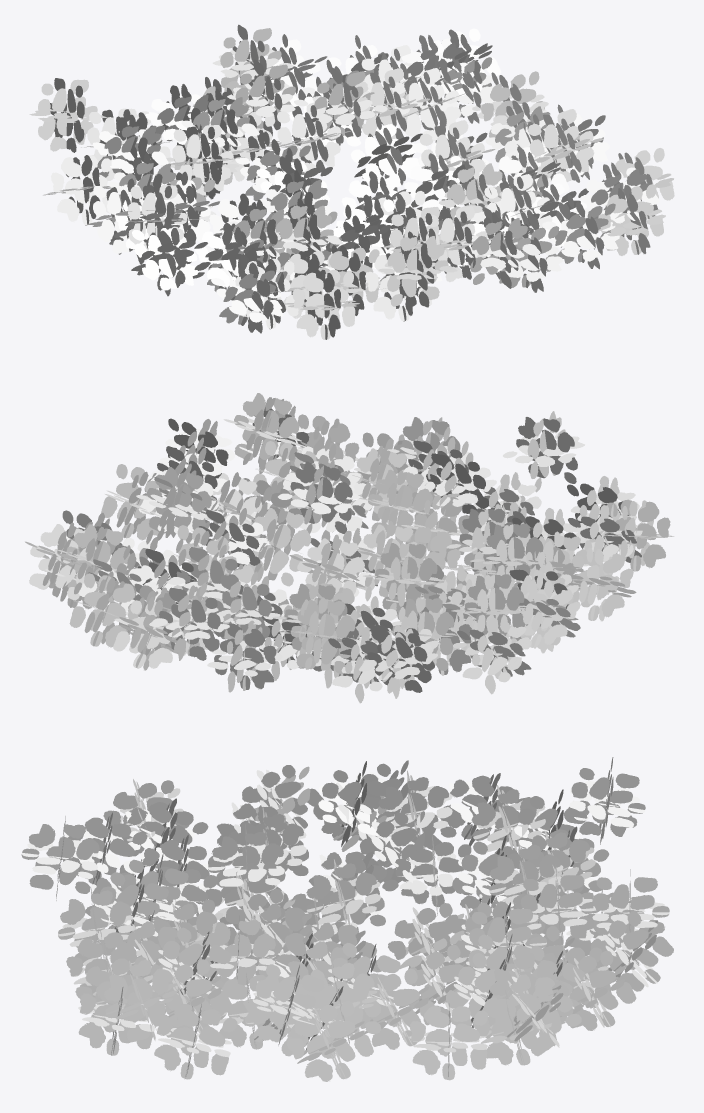
File: FoliageCloud_Test.fbx
3 views of the same model, one above another, from view 1: azimuth 30°, elevation 25°; view 2: azimuth 150°, elevation 25°; view 3: azimuth 270°, elevation 25° (orthographic). The views are drawn at different scales.
Visible parts, largest first — view 1: FoliageTestMDL_xGENVareation; view 2: FoliageTestMDL_xGENVareation; view 3: FoliageTestMDL_xGENVareation.
Part boxes in pixels (x1=…): FoliageTestMDL_xGENVareation: x1=29, y1=24, x2=674, y2=339; FoliageTestMDL_xGENVareation: x1=25, y1=393, x2=674, y2=703; FoliageTestMDL_xGENVareation: x1=21, y1=757, x2=673, y2=1081.
Bounding box in the file's own units: 74.42 × 20.08 × 77.66.
